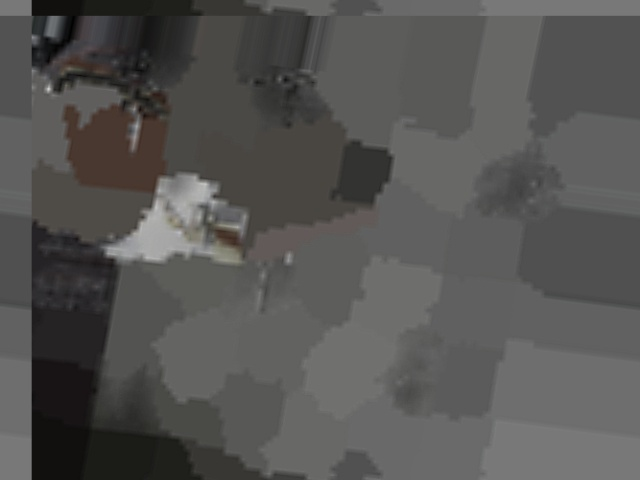three: (0, 79, 24, 118)
